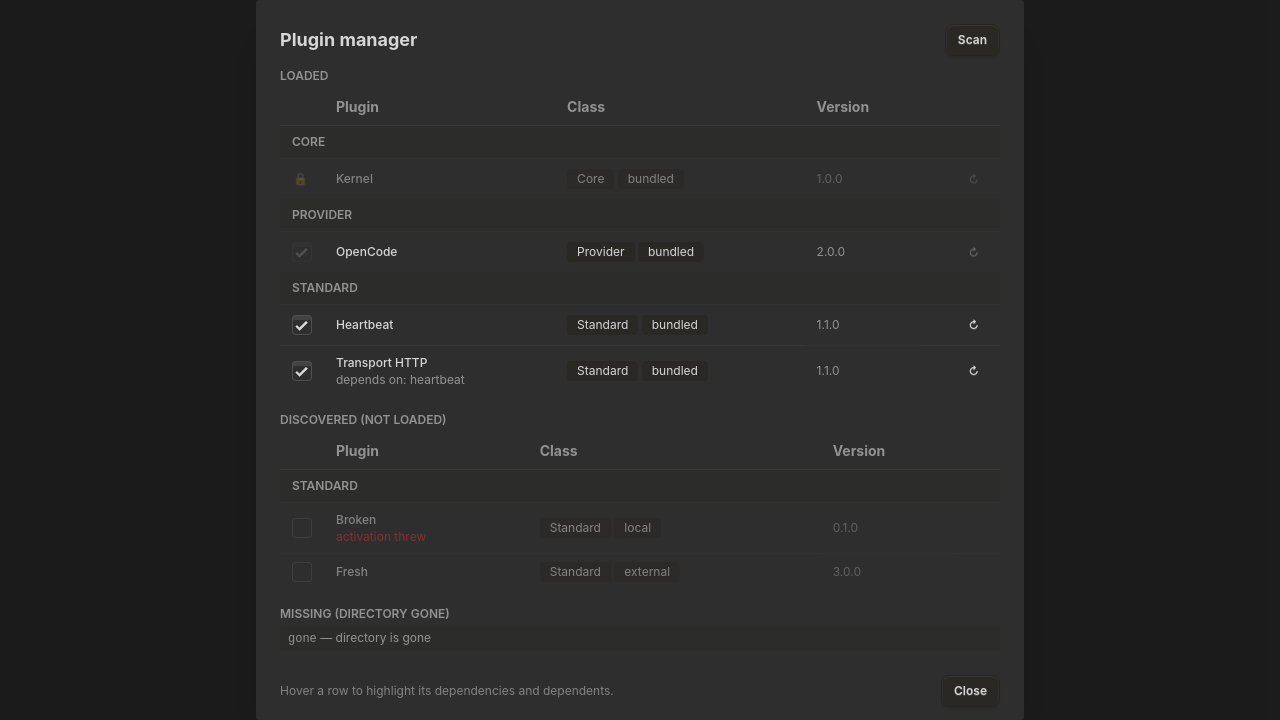
Test: PluginManager — cascade-uncheck warning (§8) › accepting the warning issues the forced unload (the cascade is server-side)
What coordinates should you click on to do the following:
click the checkbox named "Unload heartbeat"
I would click on:
 (302, 325)
Its box is [292,315,312,335].
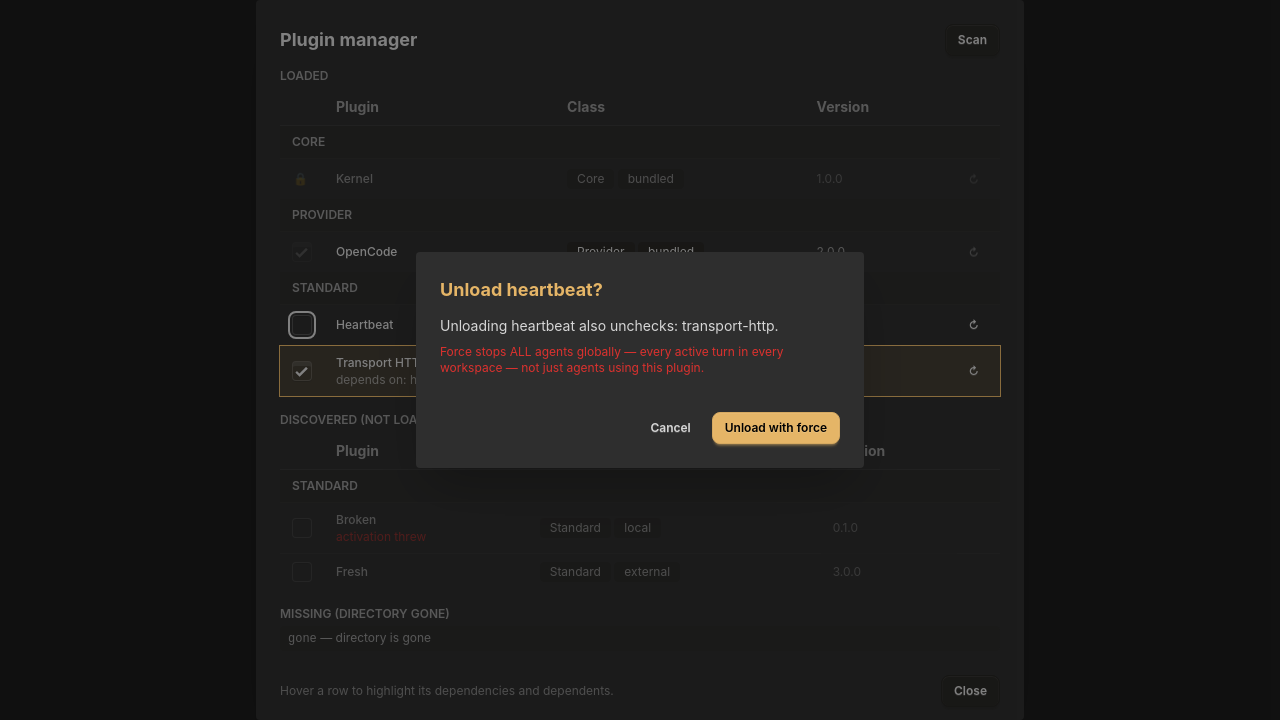
What coordinates should you click on to do the following:
click the button "Unload with force"
I would click on:
 (776, 428)
Its box is [712,412,840,444].
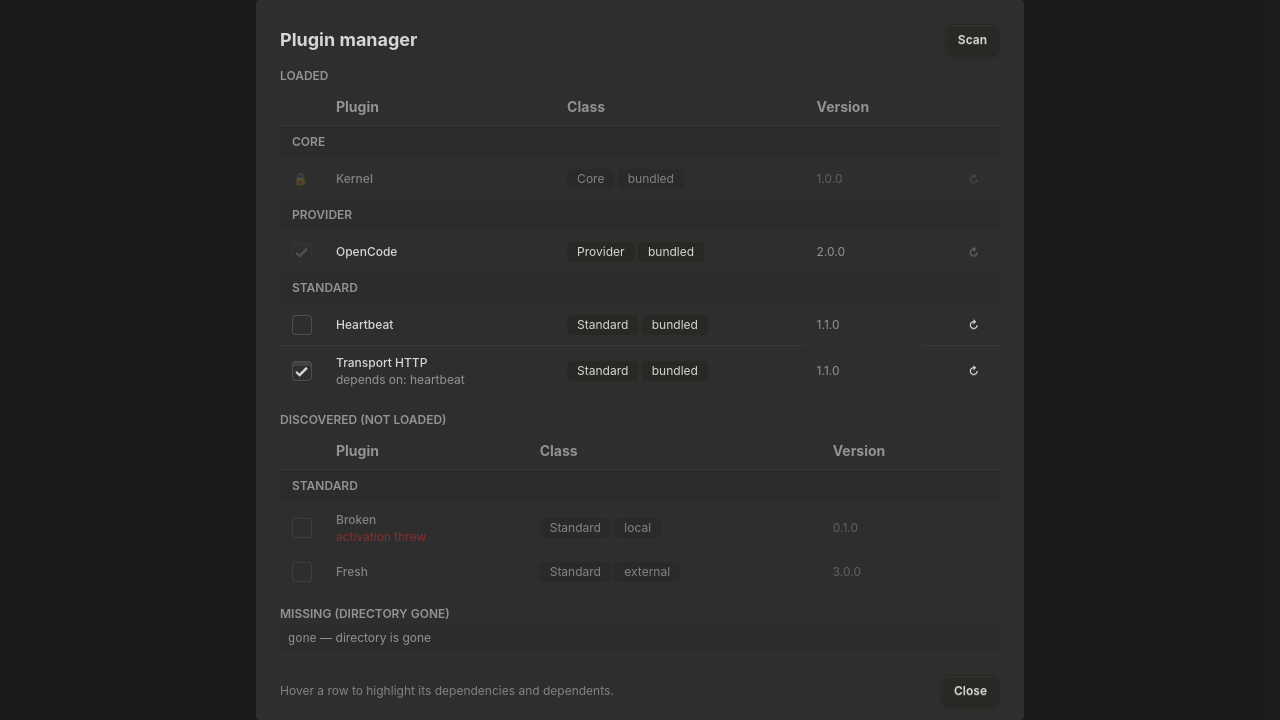
Expected: the heading "Unload heartbeat" is gone
